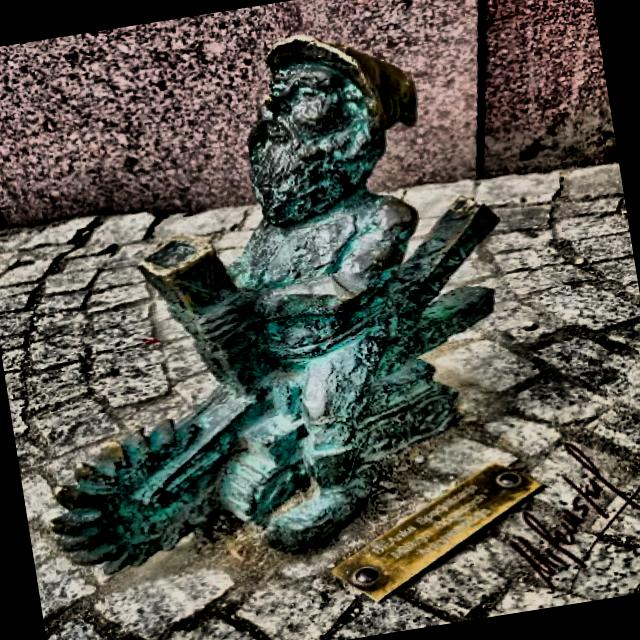Automatek: (53, 37, 497, 572)
